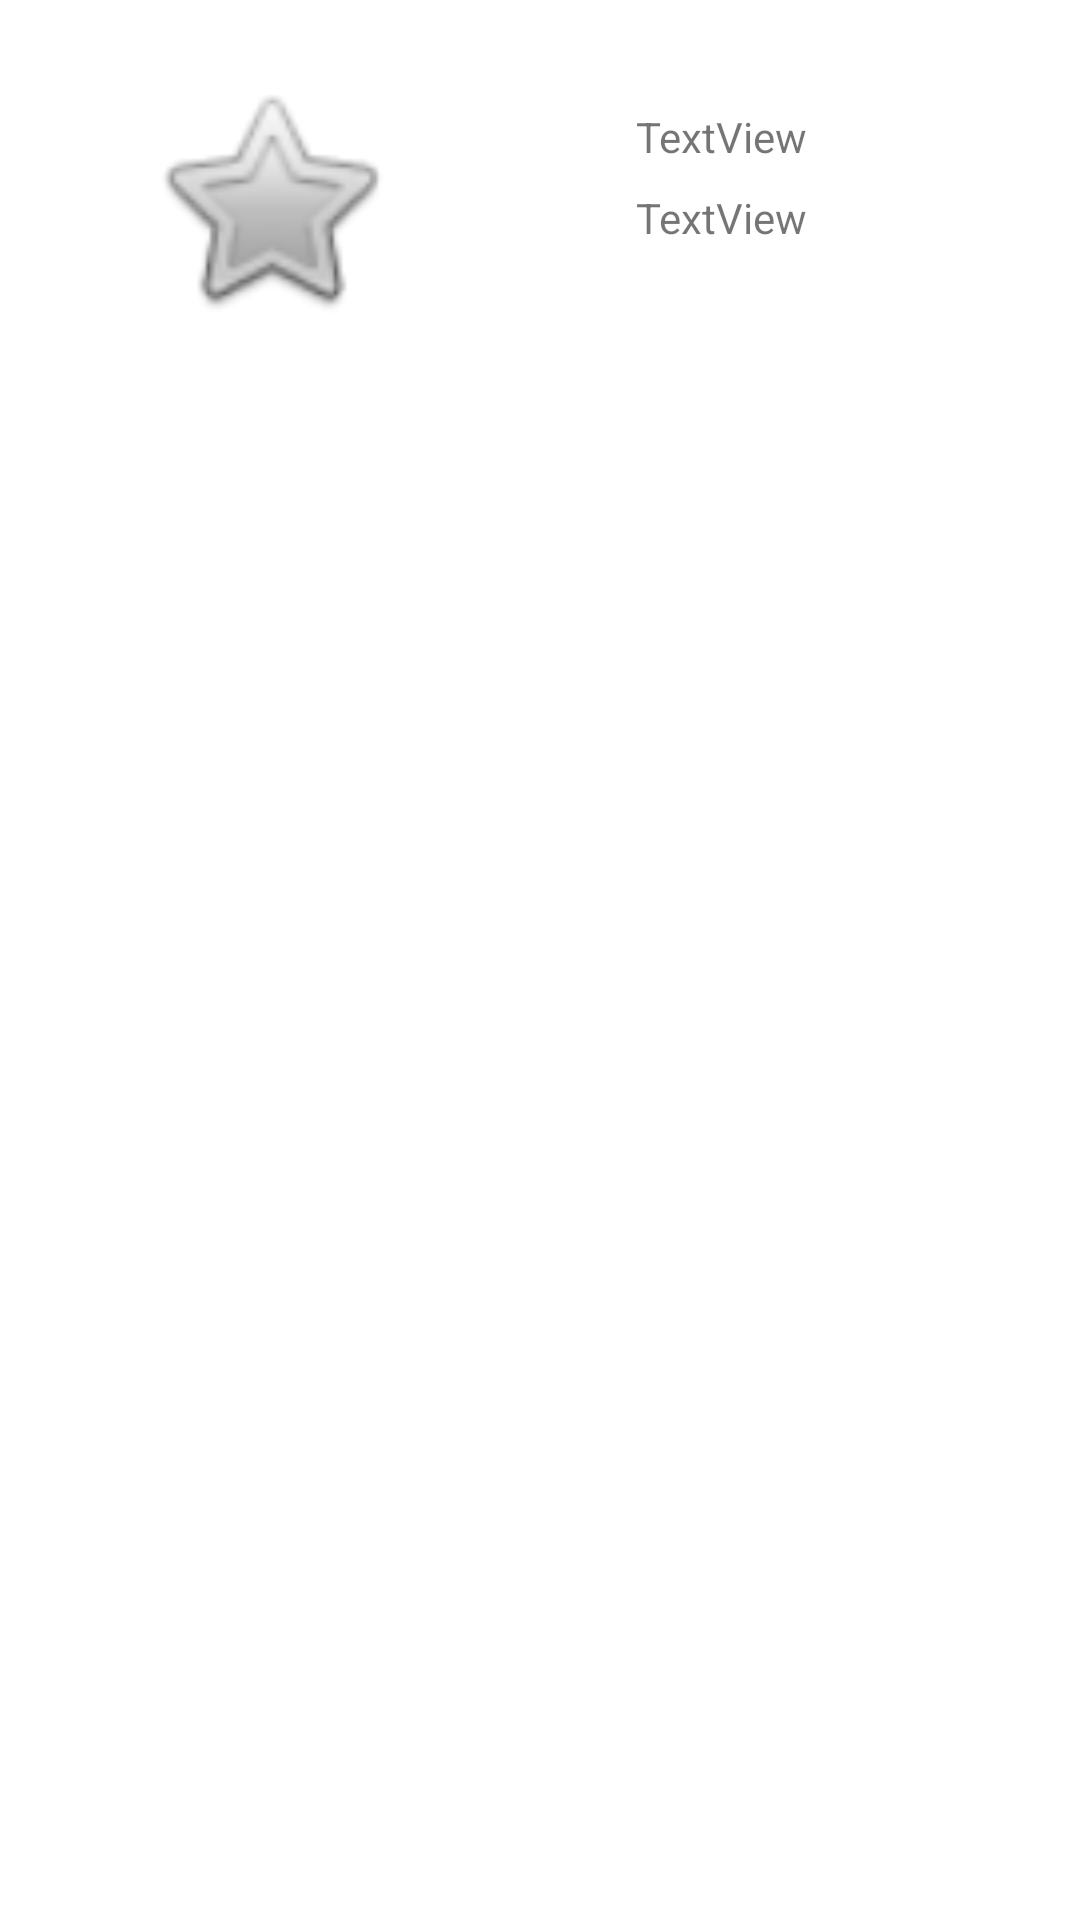

Locate icon controls on the screen. Image size 1080w x 1920h, boxes as (x1, y1, x2, y2).
star: (165, 98, 379, 305)
